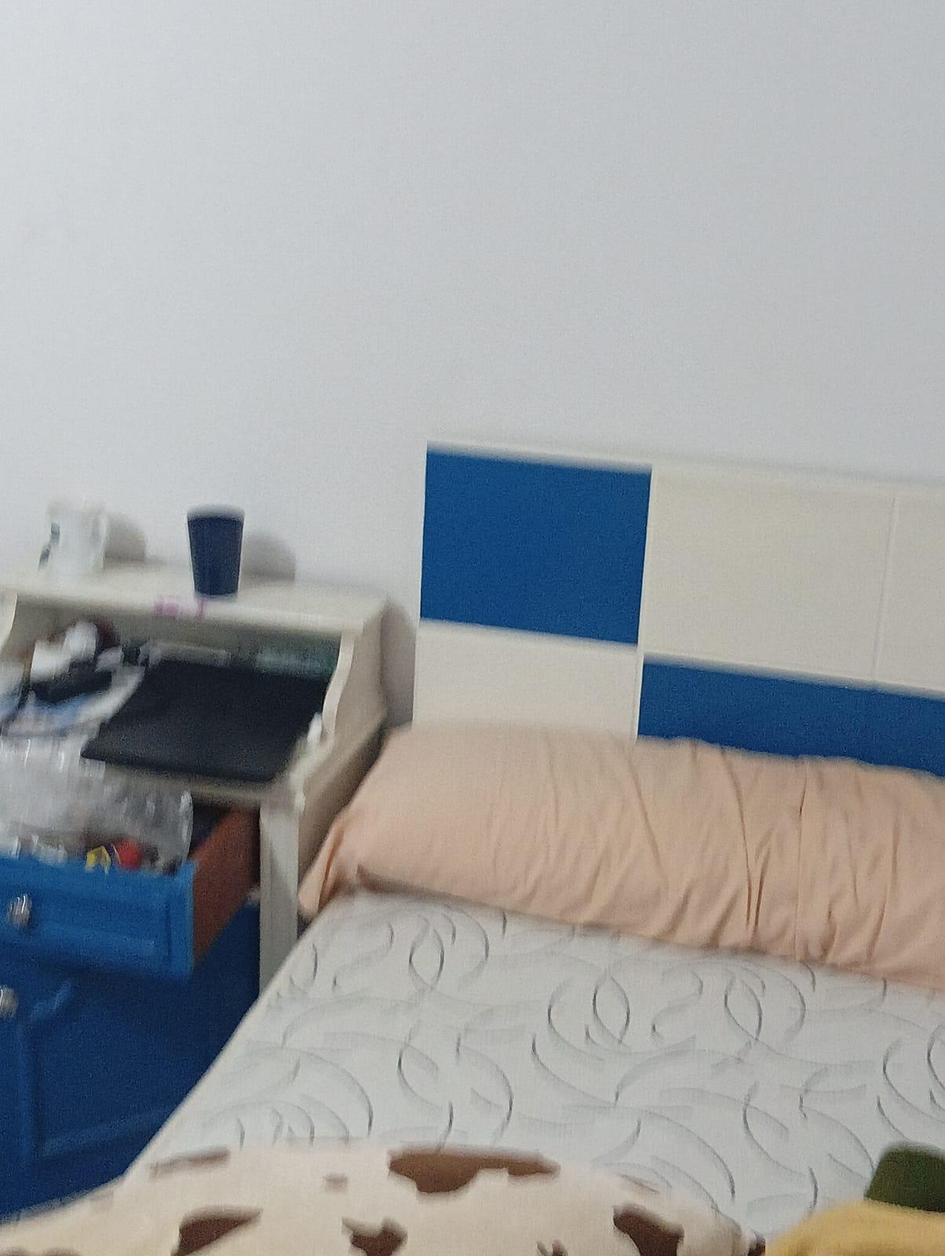cup: (41, 499, 107, 582), (188, 508, 243, 596)
